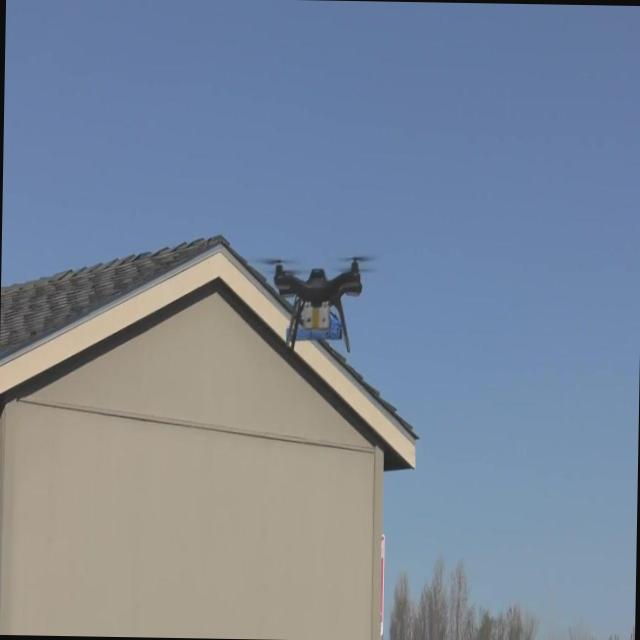drone: (261, 250, 374, 354)
